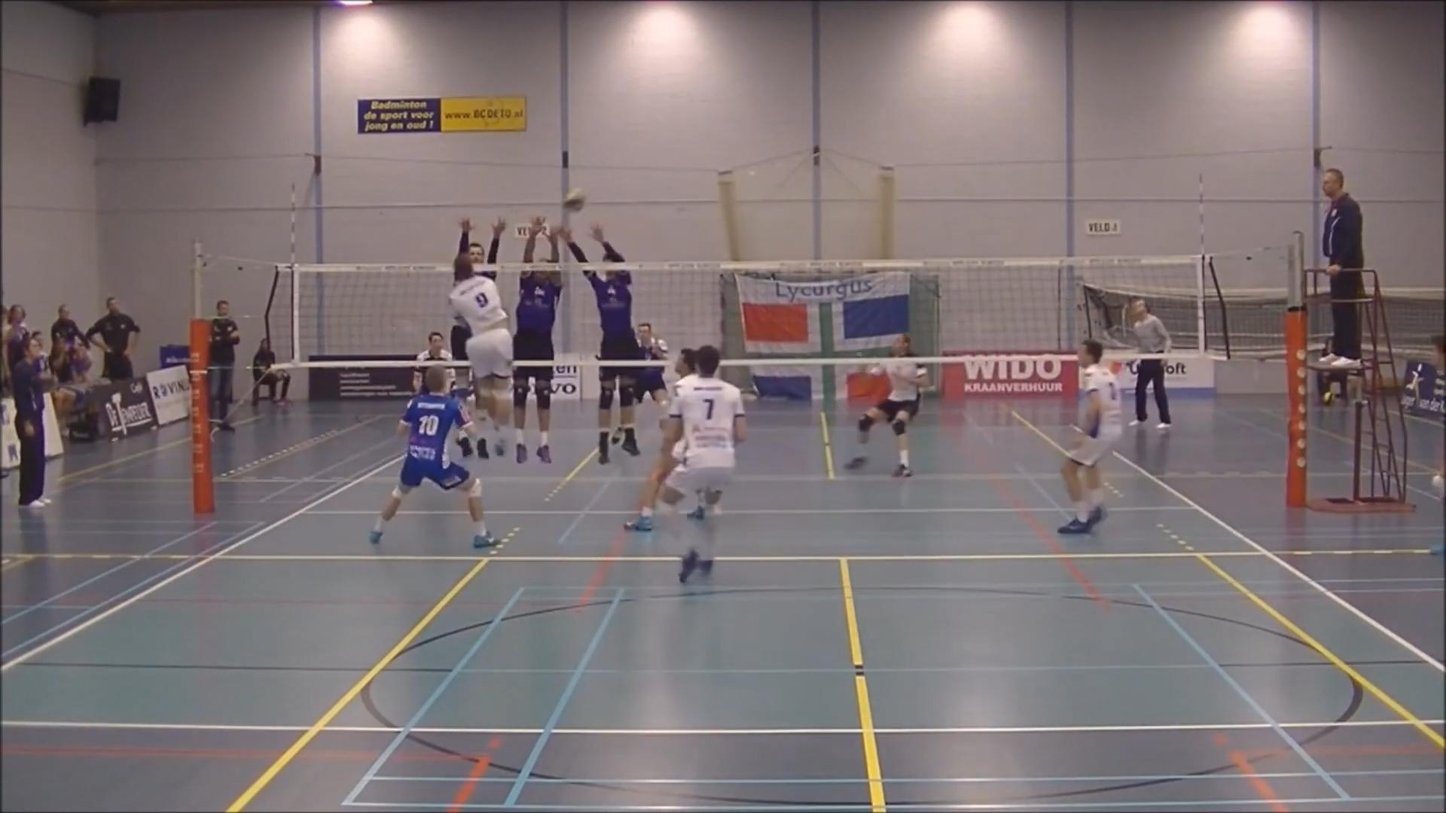attacco: (434, 243, 525, 462)
muro: (555, 222, 640, 459), (504, 212, 568, 473), (437, 218, 505, 287)
